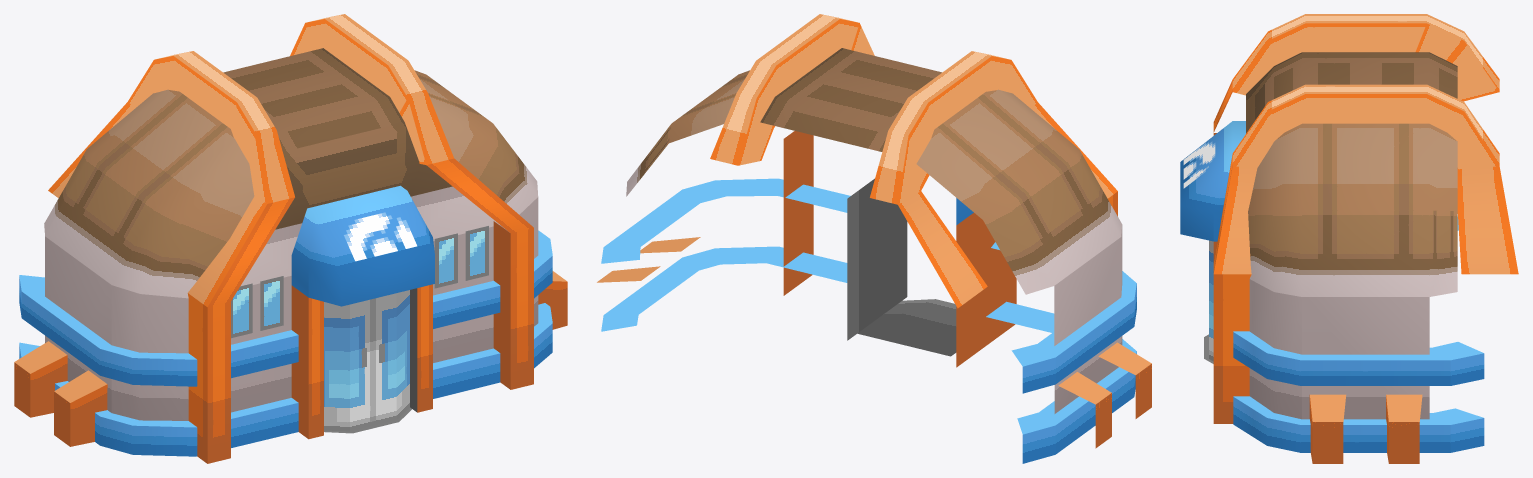
Rendered from hgss-mauville-batiment-44-complet.glb.
3 views of the same model, side by side, from view 1: azimuth 30°, elevation 25°; view 2: azimuth 150°, elevation 25°; view 3: azimuth 270°, elevation 25° (orthographic). The views are drawn at different scales.
Bounding box in the file's own units: 7.2 × 4.25 × 4.44.
Materials: 4 (4 with a texture image).
